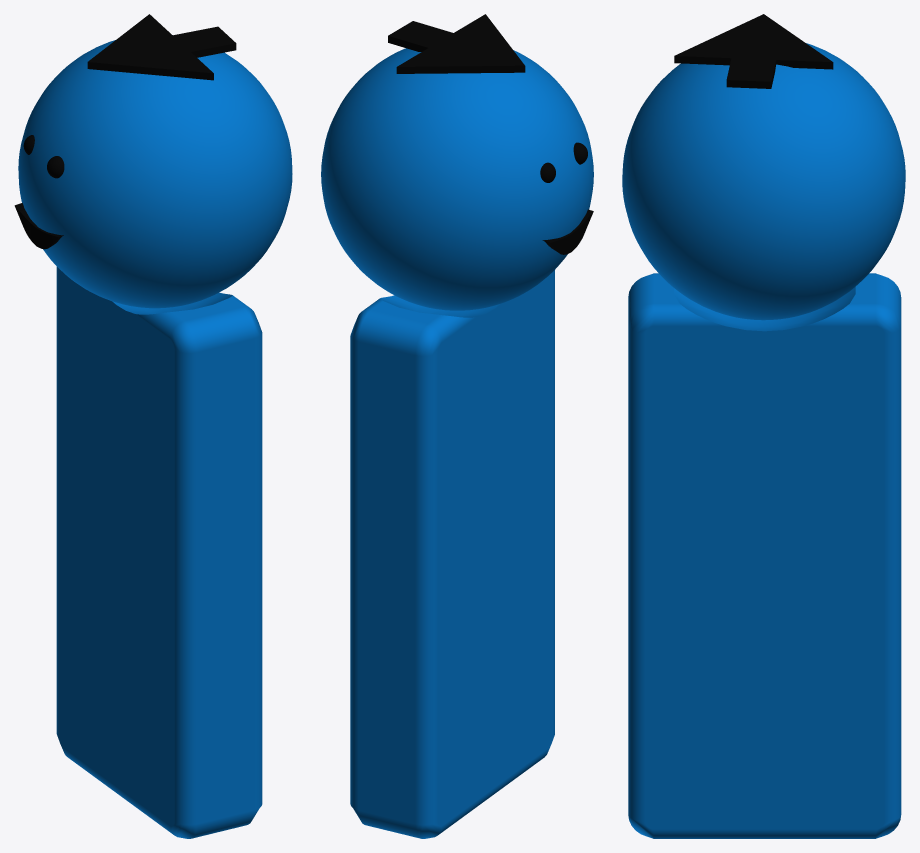
Rendered from blue_smile.obj.
The picture shows the model from 3 angles, left to right: view 1: azimuth 30°, elevation 25°; view 2: azimuth 150°, elevation 25°; view 3: azimuth 270°, elevation 25°; orthographic projection. The views are drawn at different scales.
Parts seen in each view (by area): view 1: 1_Curve.002_Curve.001, 5.002_Curve.002_Curve.003_5.002_Curve.002_Curve.002; view 2: 1_Curve.002_Curve.001, 5.002_Curve.002_Curve.003_5.002_Curve.002_Curve.002; view 3: 1_Curve.002_Curve.001, 5.002_Curve.002_Curve.003_5.002_Curve.002_Curve.002.
Part boxes in pixels (bbox=[...]): 1_Curve.002_Curve.001: bbox=[18, 40, 292, 838]; 5.002_Curve.002_Curve.003_5.002_Curve.002_Curve.002: bbox=[14, 14, 236, 249]; 1_Curve.002_Curve.001: bbox=[321, 48, 593, 838]; 5.002_Curve.002_Curve.003_5.002_Curve.002_Curve.002: bbox=[388, 14, 593, 254]; 1_Curve.002_Curve.001: bbox=[622, 43, 905, 838]; 5.002_Curve.002_Curve.003_5.002_Curve.002_Curve.002: bbox=[674, 14, 833, 88].
Size of the model in its own units: 0.1662 by 0.4993 by 0.1661.
